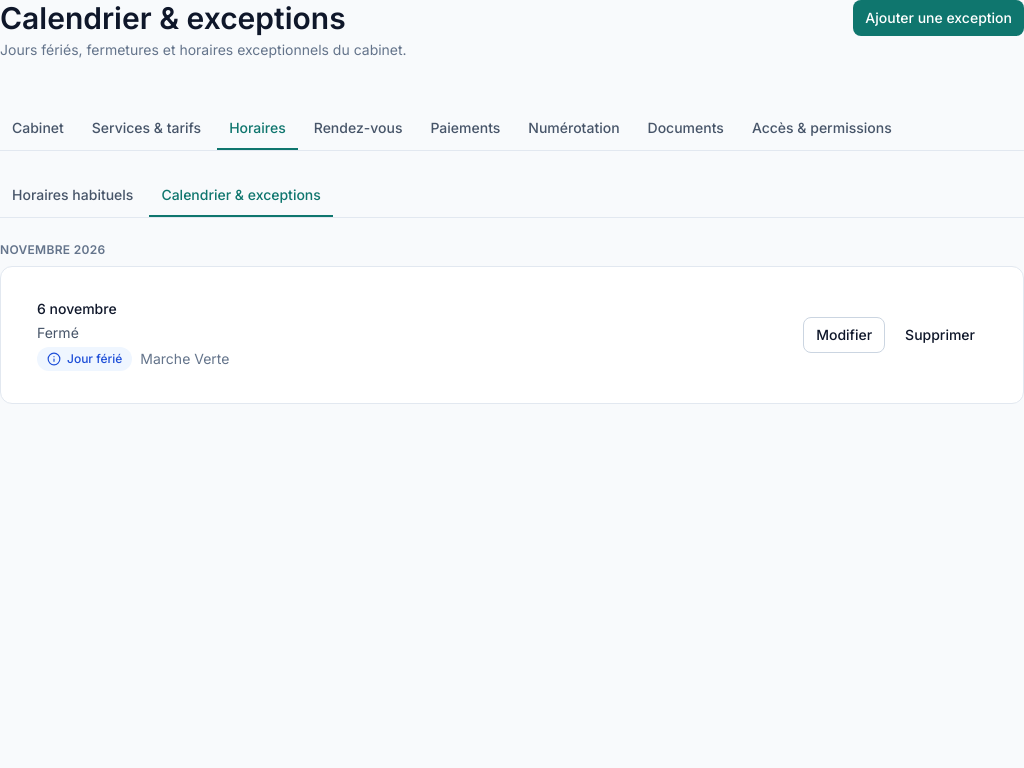
it: CalendarExceptionsPage › removing a future exception asks for confirmation and falls back to the weekly schedule
The image size is (1024, 768).
Click the button "Supprimer".
click(940, 335)  # box left=893, top=317, right=987, bottom=353
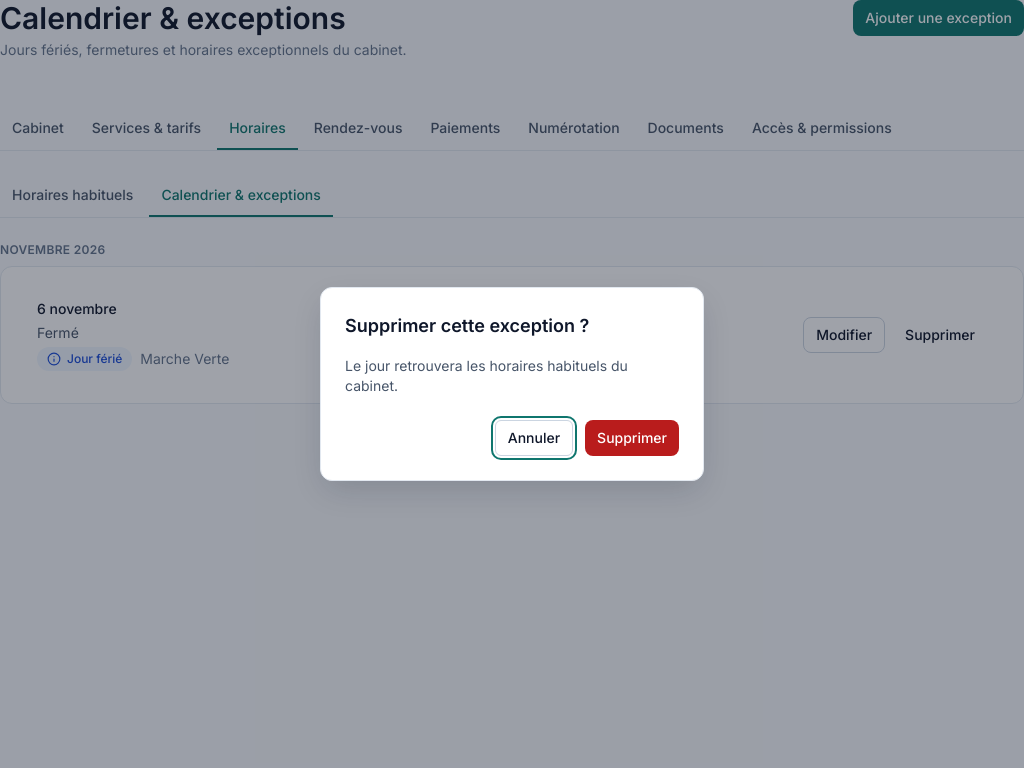
Click the button "Supprimer".
click(632, 438)  # box left=585, top=420, right=679, bottom=456
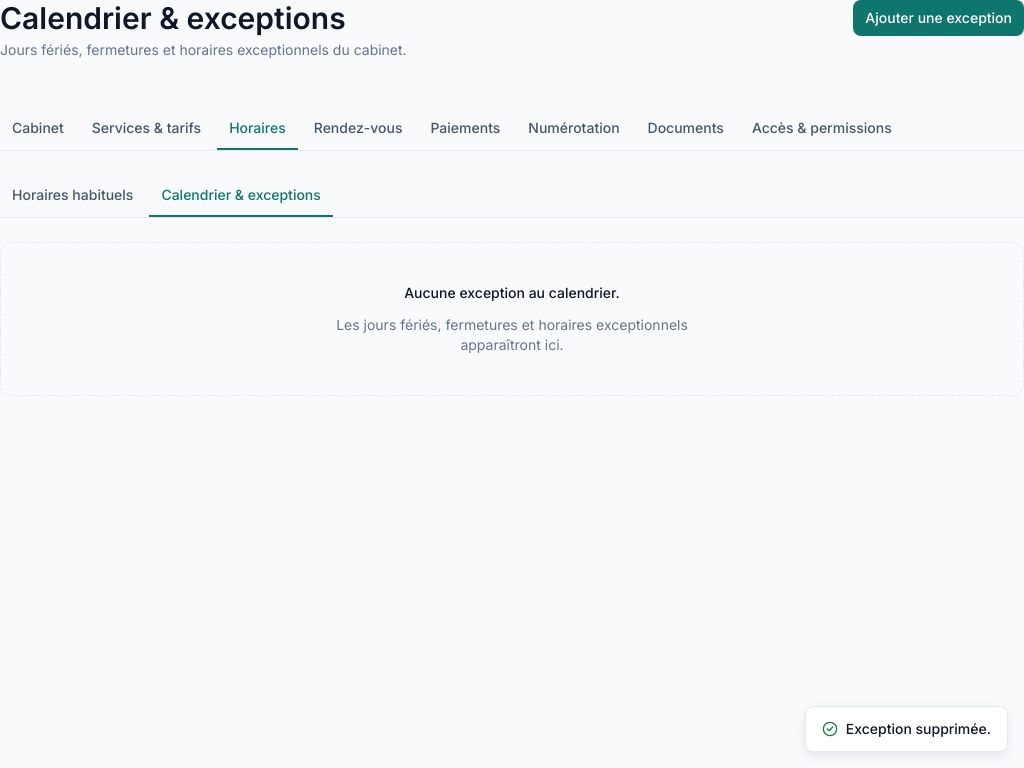
Expected: the text "Exception supprimée." is shown, left=805, top=706, right=1008, bottom=752
Expected: the text "Marche Verte" is gone
Expected: the text "Aucune exception au calendrier." is shown, left=404, top=283, right=620, bottom=303
